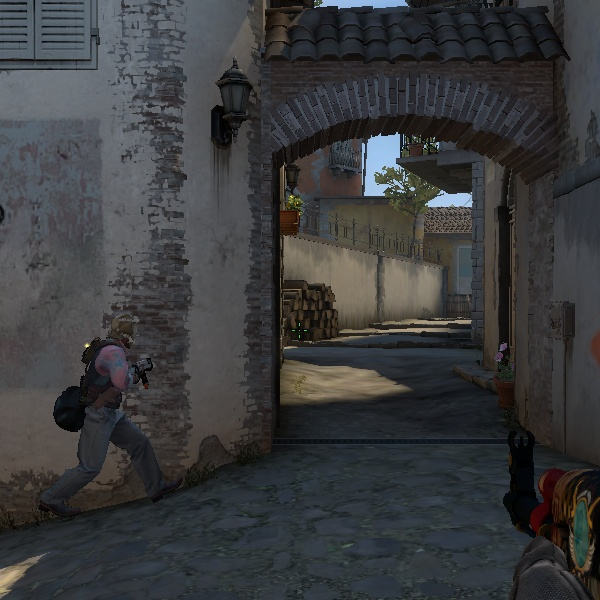ct_head: (392, 126, 442, 171)
